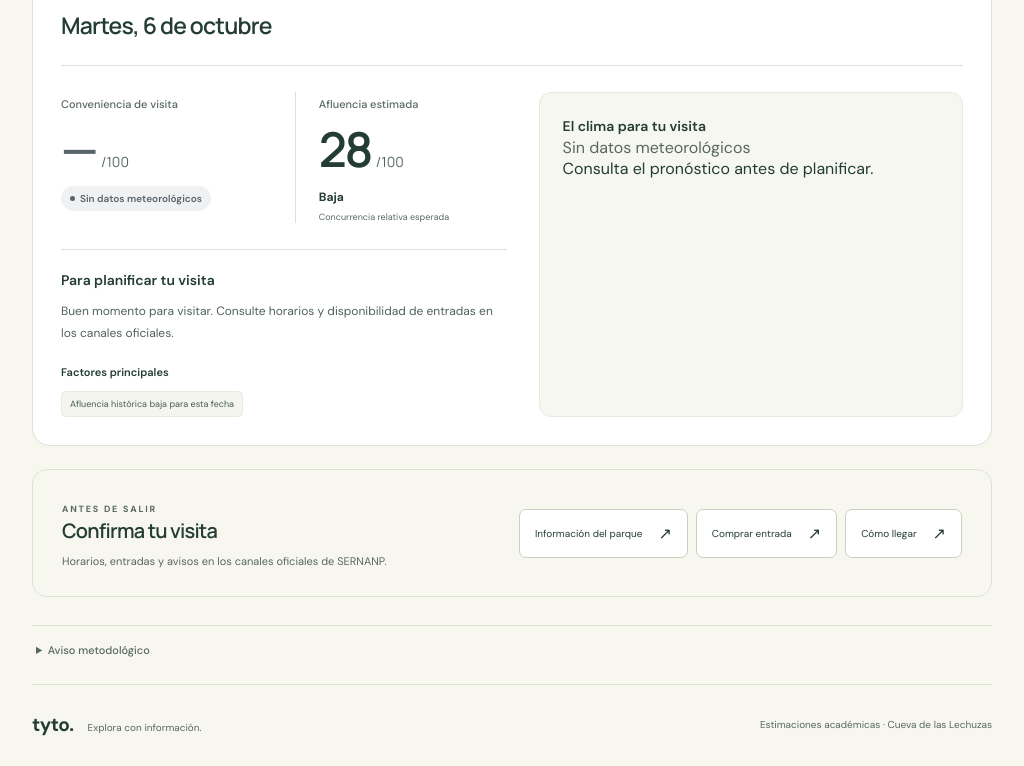
Test case: dashboard › muestra datos degradados, advertencia semanal y enlaces seguros
(page scrolled)
What coordinates should you click on to do the following:
click the heading "Aviso metodológico"
I would click on:
 (99, 650)
Its box is [48,643,150,657].
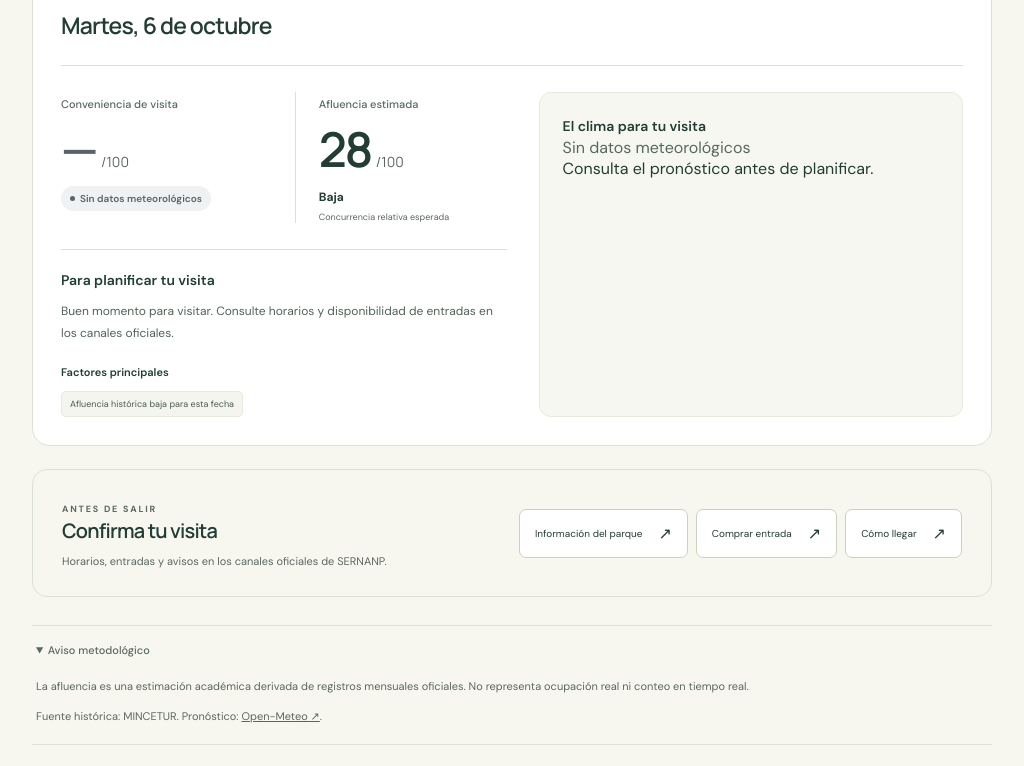
Now the text "La afluencia es una estimación académica derivada de registros mensuales oficiales. No representa ocupación real ni cont" is shown, box [36,679,749,693]
